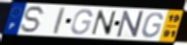G: (70, 8, 94, 36), (140, 12, 164, 39)
I: (52, 6, 67, 35)
N: (116, 10, 145, 38), (91, 9, 118, 37)
S: (19, 5, 48, 34)
